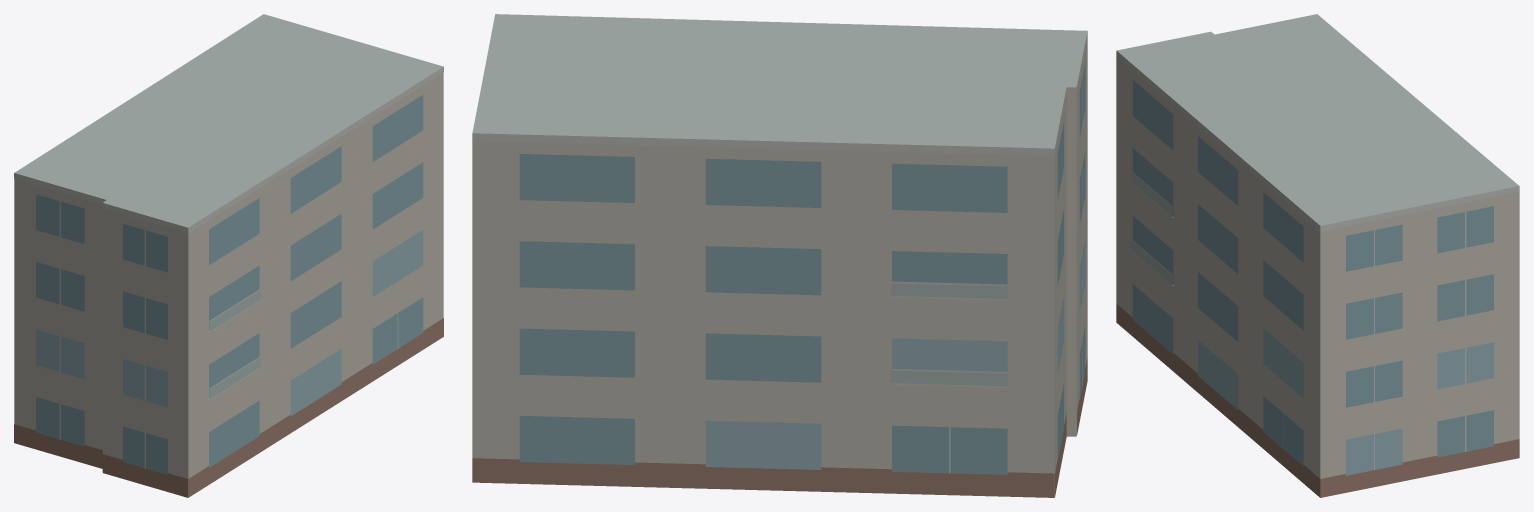
Rendered from survey-upis-32885642.glb.
3 renders of one model, left to right at view 1: azimuth 30°, elevation 25°; view 2: azimuth 150°, elevation 25°; view 3: azimuth 270°, elevation 25°, orthographic. The views are drawn at different scales.
Parts seen in each view (by area): view 1: survey-upis-32885642.tmp; view 2: survey-upis-32885642.tmp; view 3: survey-upis-32885642.tmp.
Part boxes in pixels (x1,y1,x2,y2): survey-upis-32885642.tmp: [14, 14, 443, 497]; survey-upis-32885642.tmp: [472, 14, 1087, 497]; survey-upis-32885642.tmp: [1116, 14, 1519, 497].
Bounding box in the file's own units: 19.05 × 11.4 × 15.32.
